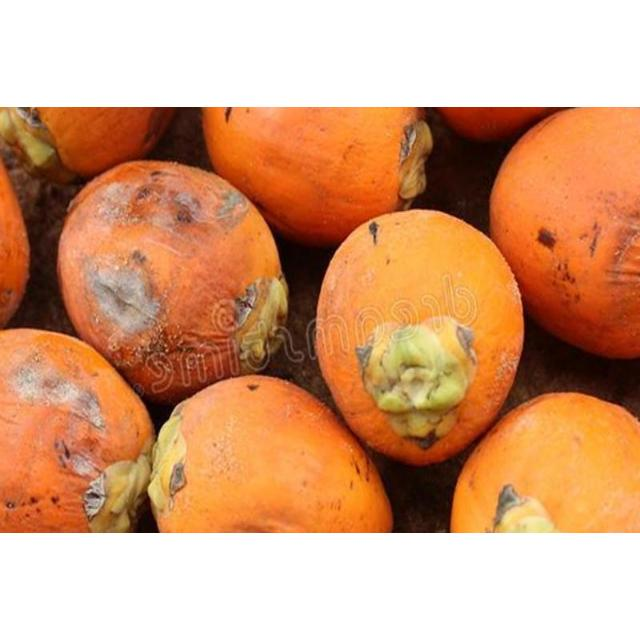good: (57, 162, 286, 406), (315, 210, 519, 464), (146, 376, 390, 532), (494, 111, 638, 357), (202, 110, 430, 246), (3, 332, 155, 530), (451, 394, 637, 530), (9, 108, 178, 182), (429, 108, 587, 142)
